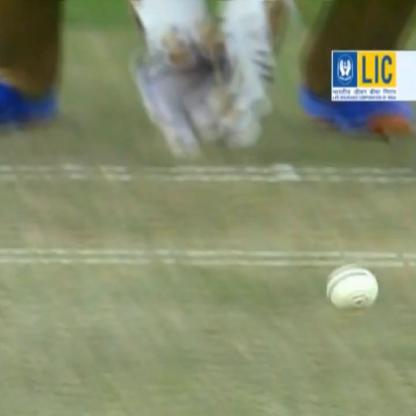ball: (326, 259, 384, 315)
